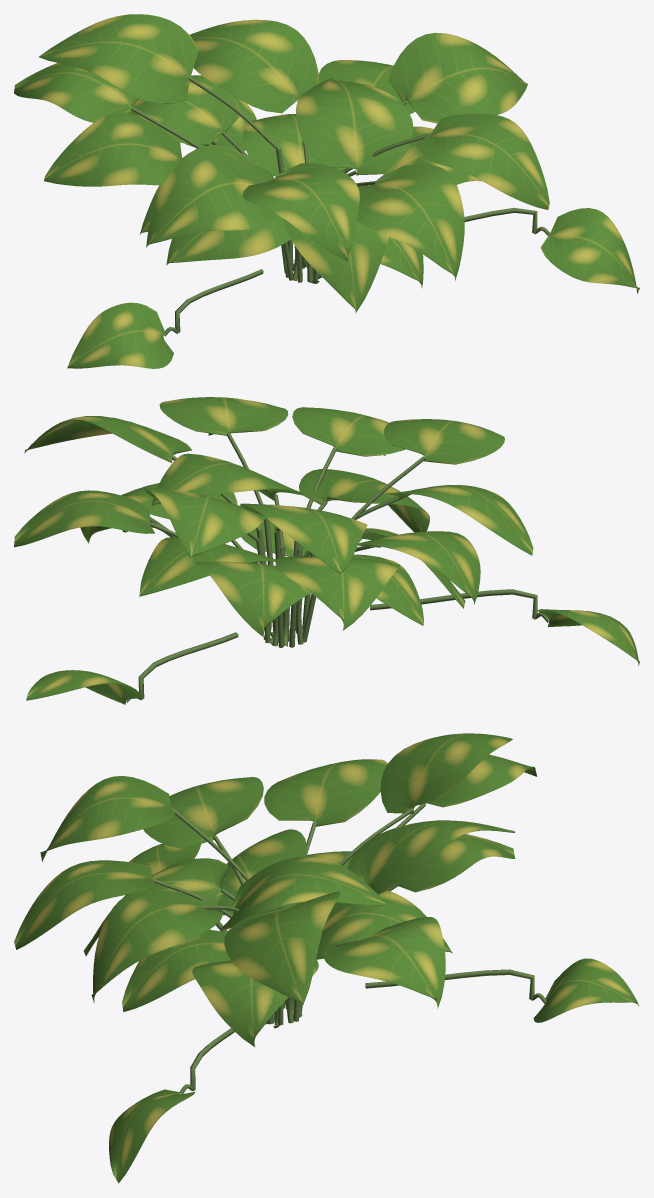
File: pothos-stage-4.glb
3 renders of one model, top to bottom at view 1: azimuth 30°, elevation 25°; view 2: azimuth 150°, elevation 25°; view 3: azimuth 270°, elevation 25°, orthographic. The views are drawn at different scales.
Parts seen in each view (by area): view 1: Leaf_17, Leaf_14, Leaf_8, Leaf_11, Leaf_13, Leaf_10, Leaf_16, Leaf_7, Leaf_15, Leaf_31, Leaf_30, Leaf_12 (+10 smaller); view 2: PlantBranches, Leaf_12, Leaf_6, Leaf_14, Leaf_9, Leaf_17, Leaf_15, Leaf_16, Leaf_8, Leaf_7, Leaf_13, Leaf_5 (+9 smaller); view 3: Leaf_11, Leaf_16, Leaf_6, Leaf_17, Leaf_7, Leaf_8, Leaf_15, Leaf_13, Leaf_14, Leaf_10, Leaf_3, PlantBranches (+9 smaller).
Boxes of the visible parts, x1=… form: Leaf_17: x1=39, y1=14, x2=198, y2=103; Leaf_14: x1=190, y1=19, x2=319, y2=113; Leaf_8: x1=295, y1=78, x2=413, y2=175; Leaf_11: x1=388, y1=32, x2=527, y2=123; Leaf_13: x1=357, y1=164, x2=464, y2=280; Leaf_10: x1=146, y1=149, x2=276, y2=248; Leaf_16: x1=415, y1=113, x2=549, y2=209; Leaf_7: x1=44, y1=112, x2=182, y2=186; Leaf_15: x1=242, y1=163, x2=359, y2=261; Leaf_31: x1=540, y1=208, x2=639, y2=293; Leaf_30: x1=67, y1=302, x2=173, y2=368; Leaf_12: x1=14, y1=63, x2=138, y2=122; PlantBranches: x1=122, y1=433, x2=549, y2=702; Leaf_12: x1=275, y1=556, x2=400, y2=630; Leaf_6: x1=14, y1=490, x2=154, y2=547; Leaf_14: x1=143, y1=487, x2=265, y2=558; Leaf_9: x1=196, y1=561, x2=310, y2=637; Leaf_17: x1=240, y1=503, x2=367, y2=573; Leaf_15: x1=384, y1=419, x2=504, y2=464; Leaf_16: x1=159, y1=397, x2=288, y2=435; Leaf_8: x1=151, y1=453, x2=302, y2=507; Leaf_7: x1=358, y1=531, x2=480, y2=604; Leaf_13: x1=292, y1=407, x2=405, y2=456; Leaf_5: x1=299, y1=469, x2=429, y2=532; Leaf_11: x1=224, y1=891, x2=340, y2=1004; Leaf_16: x1=91, y1=889, x2=223, y2=1002; Leaf_6: x1=324, y1=916, x2=445, y2=1008; Leaf_17: x1=380, y1=733, x2=512, y2=813; Leaf_7: x1=264, y1=759, x2=387, y2=826; Leaf_8: x1=221, y1=856, x2=386, y2=929; Leaf_15: x1=40, y1=776, x2=175, y2=861; Leaf_13: x1=14, y1=860, x2=155, y2=949; Leaf_14: x1=347, y1=820, x2=514, y2=894; Leaf_10: x1=143, y1=777, x2=263, y2=848; Leaf_3: x1=192, y1=959, x2=318, y2=1046; PlantBranches: x1=153, y1=804, x2=546, y2=1093.
Bounding box in the file's own units: 2.77 × 1.15 × 2.55.
Materials: 2 (1 with a texture image).
